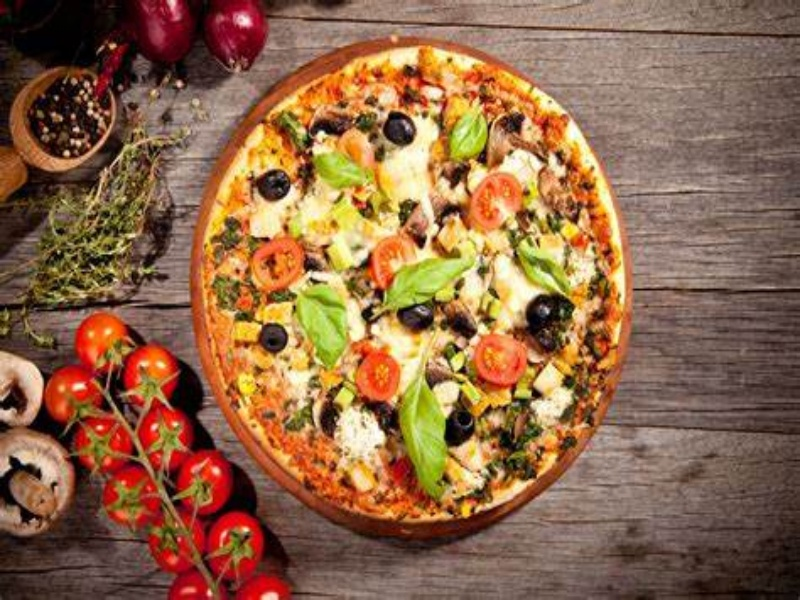olive noir: (376, 106, 420, 148), (447, 402, 480, 454), (257, 167, 295, 205), (525, 291, 561, 330), (400, 303, 438, 336), (259, 324, 293, 357)
